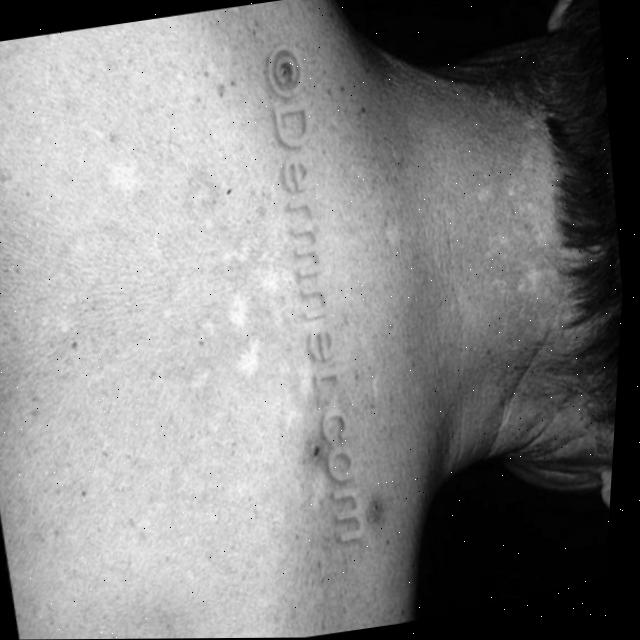Eczema: (195, 237, 338, 497), (484, 158, 567, 295), (369, 498, 382, 517)
